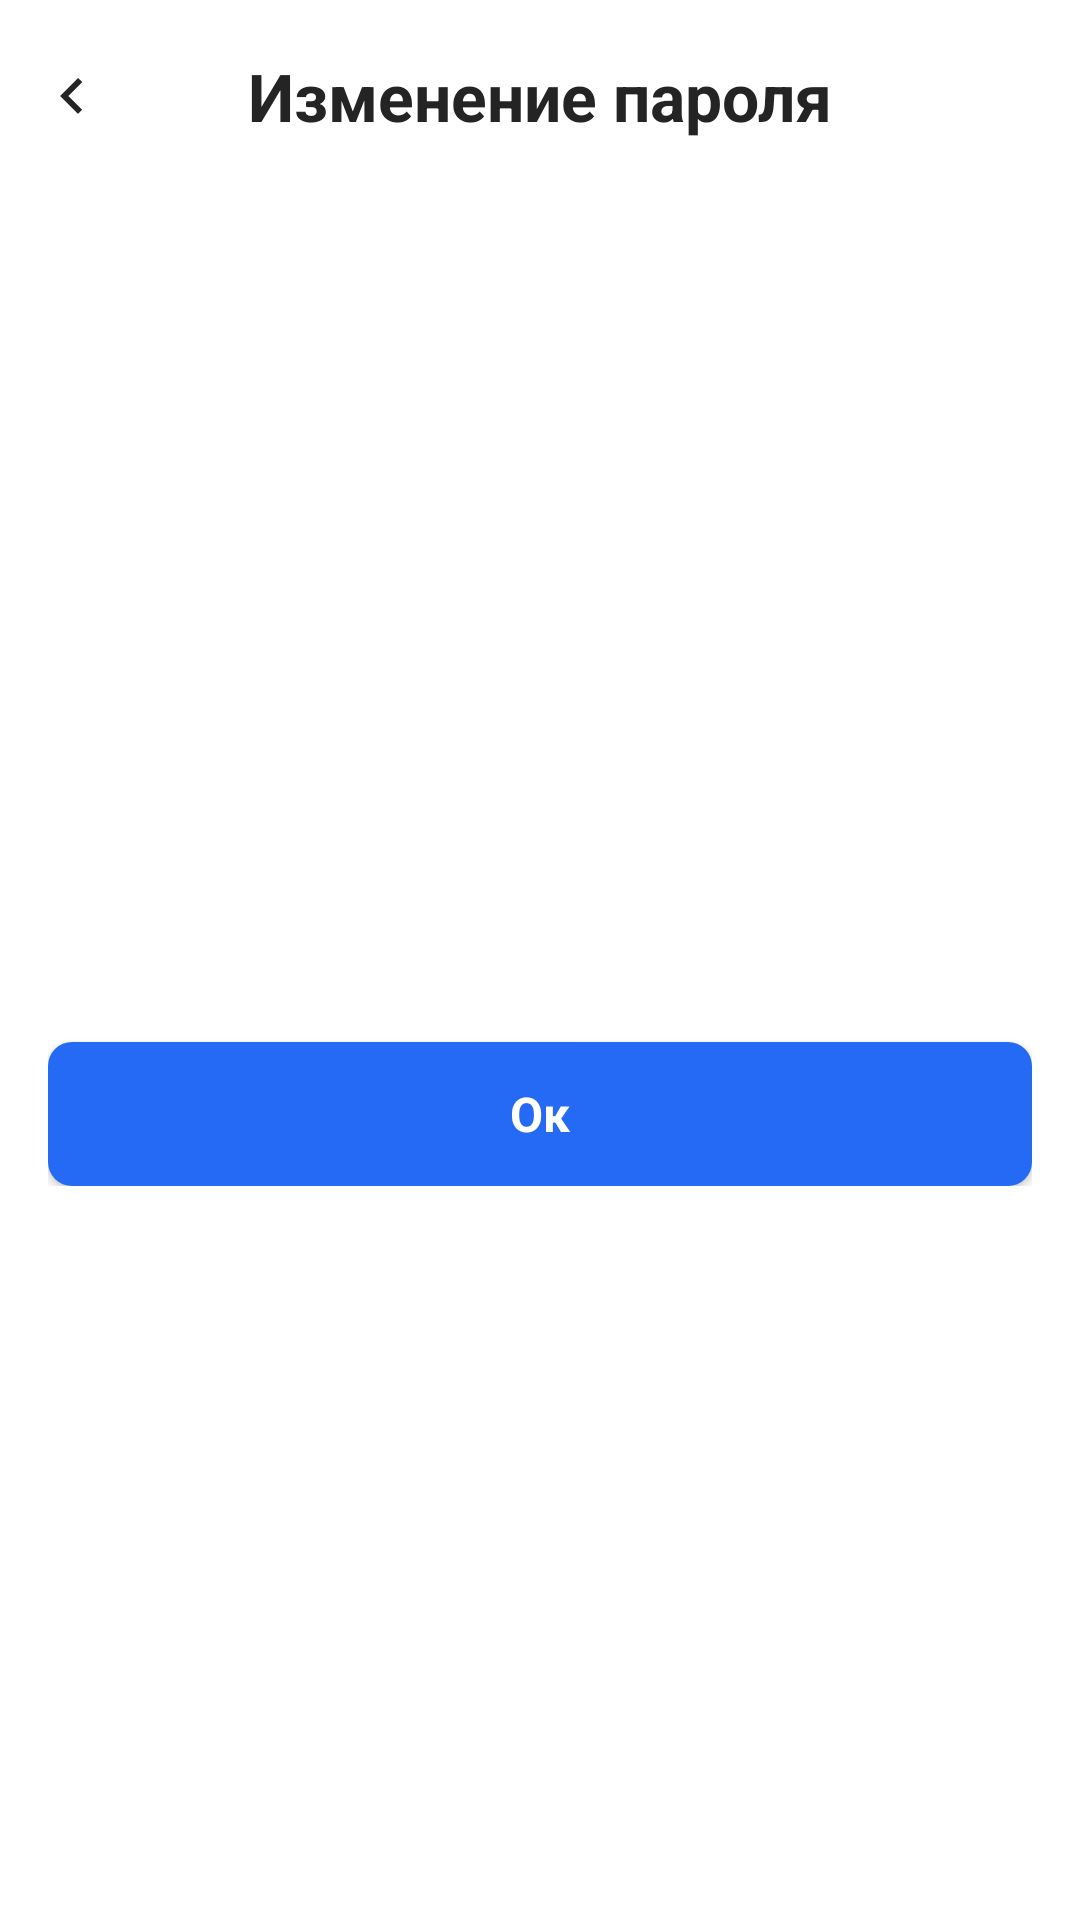

Named icons in this screenshot (1080x1920) and their centers, [x,y]:
GO BACK: [71,96]
